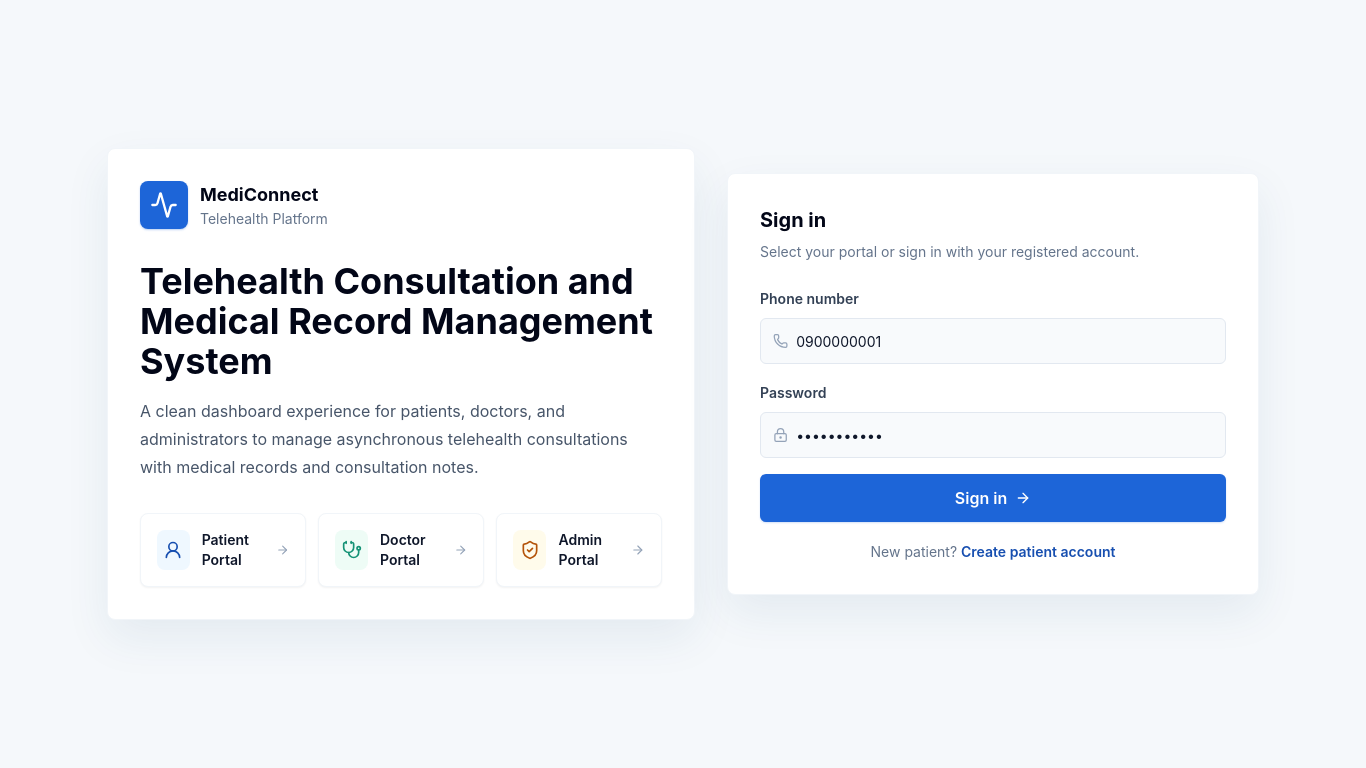
Test: Telehealth frontend routes › logs in through the backend API and stores the returned JWT
The width and height of the screenshot is (1366, 768).
Click the button "Doctor Portal".
click(401, 550)  # box x1=318 y1=513 x2=484 y2=587
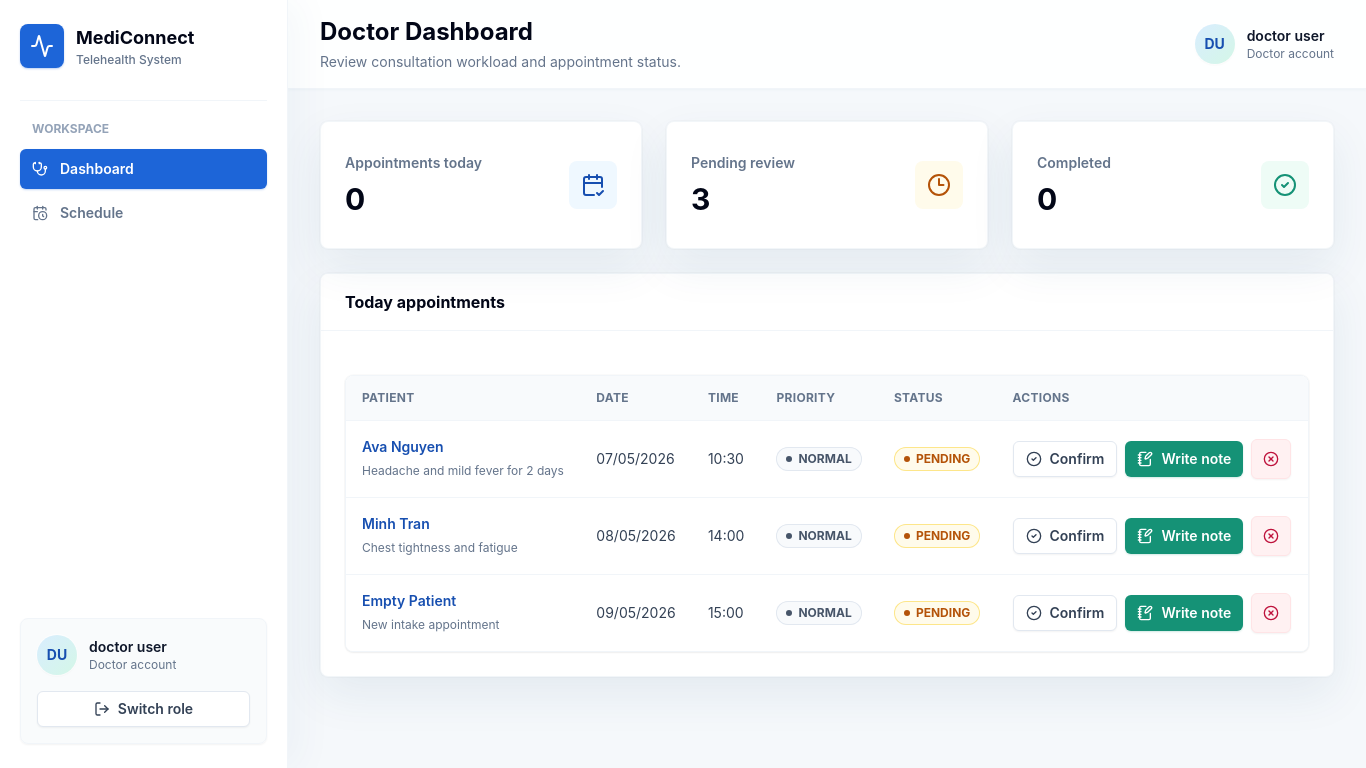
Expected: the heading "Doctor Dashboard" is shown, x1=320 y1=17 x2=533 y2=46
